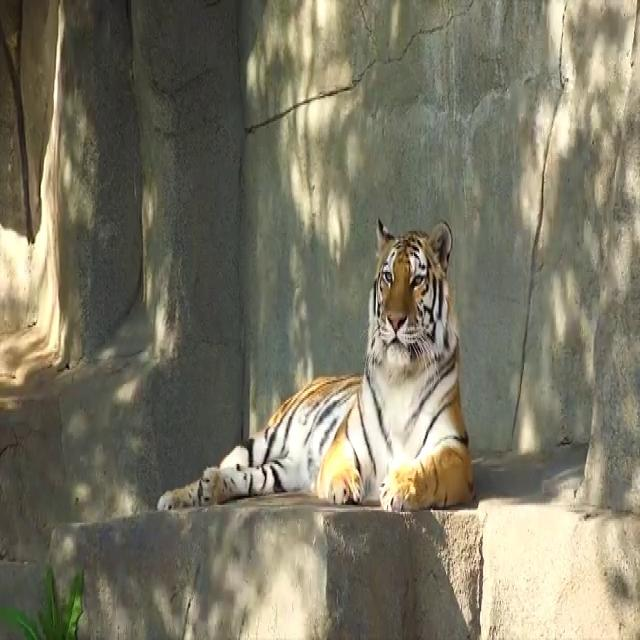tiger: (157, 219, 477, 516)
